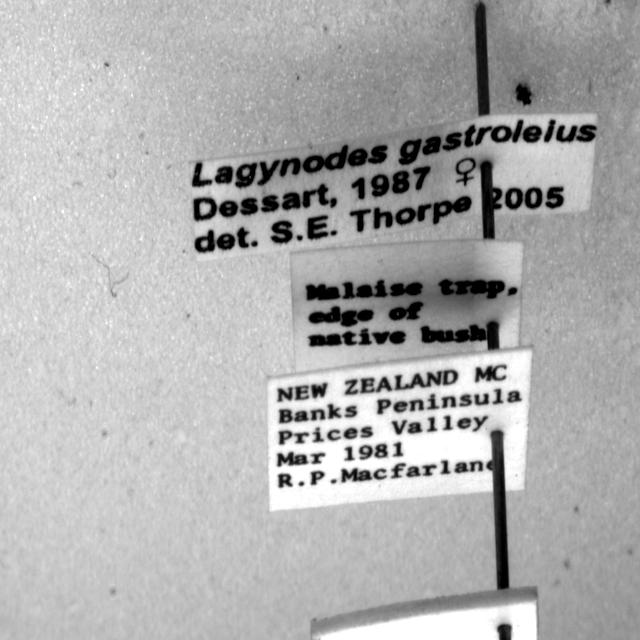typed_label: (190, 114, 598, 261), (268, 349, 532, 512), (290, 240, 524, 371)
